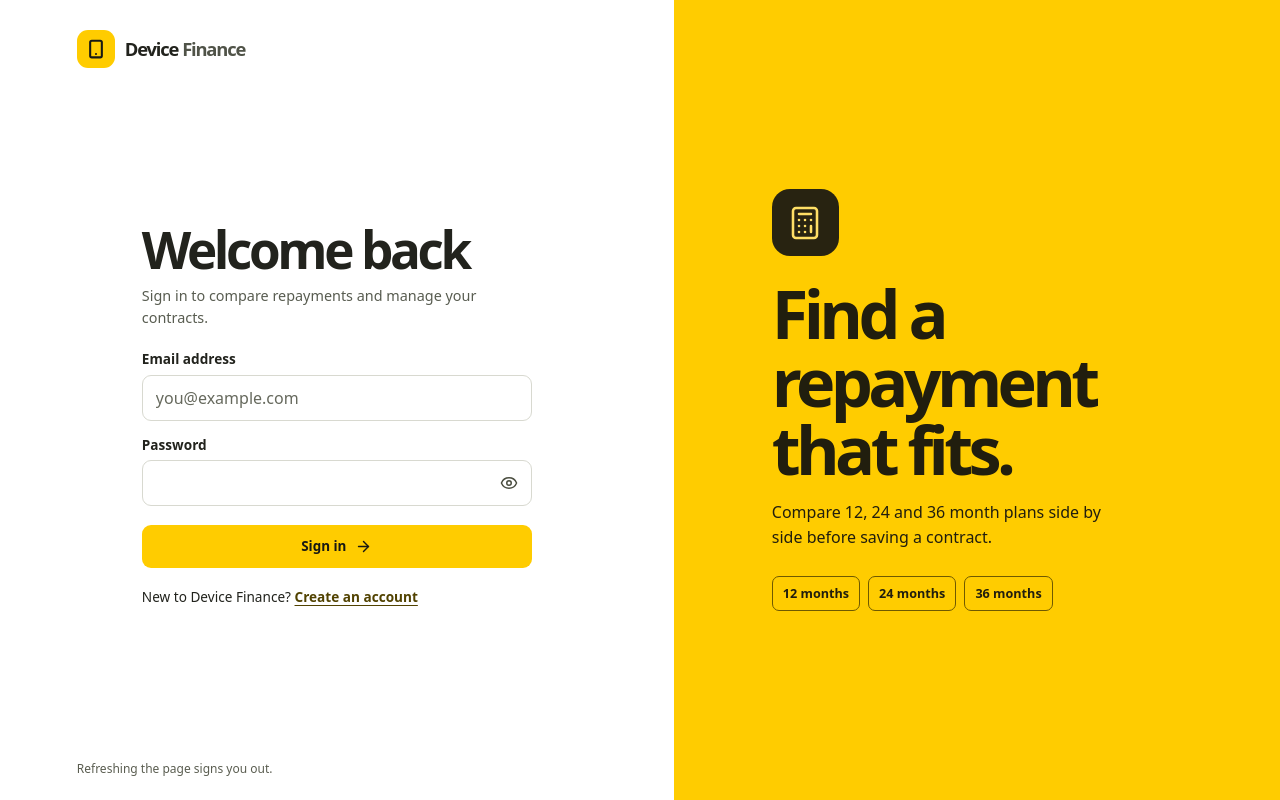
Test: account access › returns to login on a protected 401 without leaking saved data
In the field labelled "Email address": (337, 398) [142, 375, 532, 421], type "fixture@example.test"
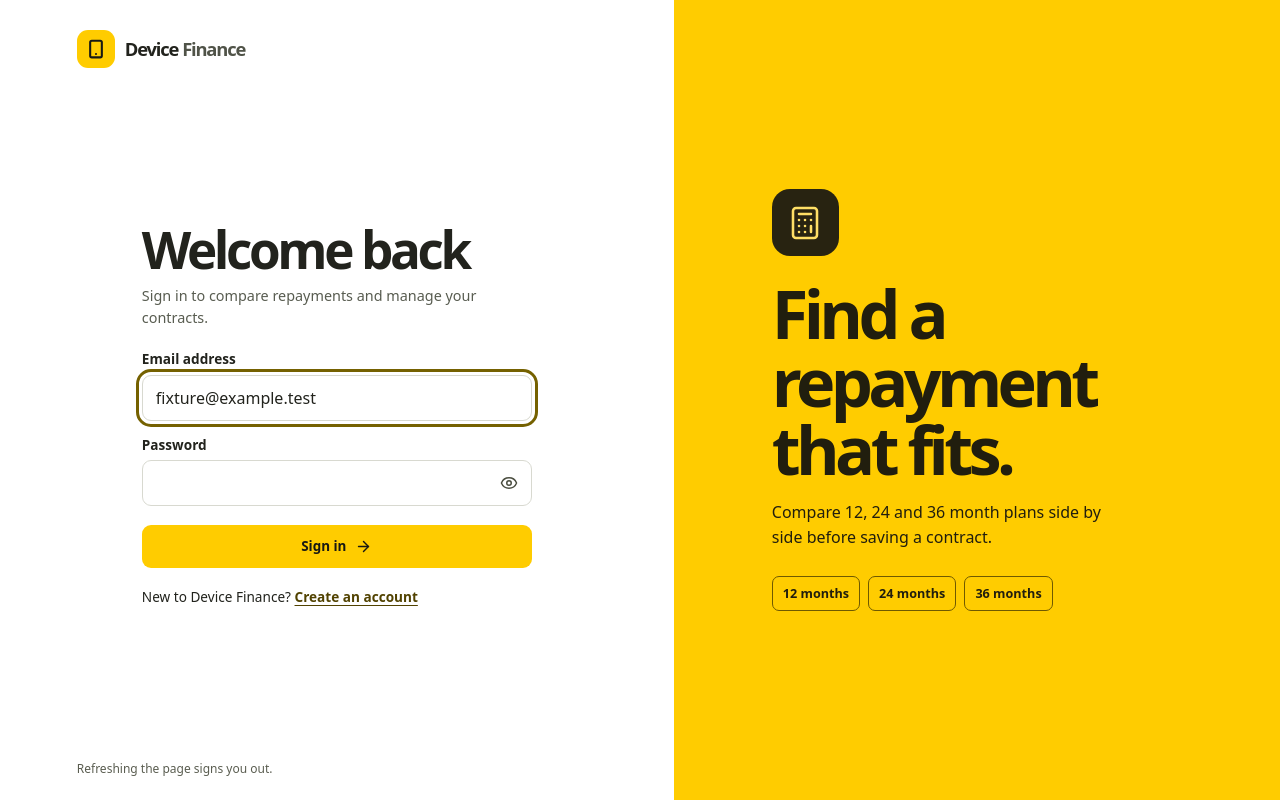
In the password field labelled "Password": (337, 483) [142, 460, 532, 506], type "Sufficient fixture password"
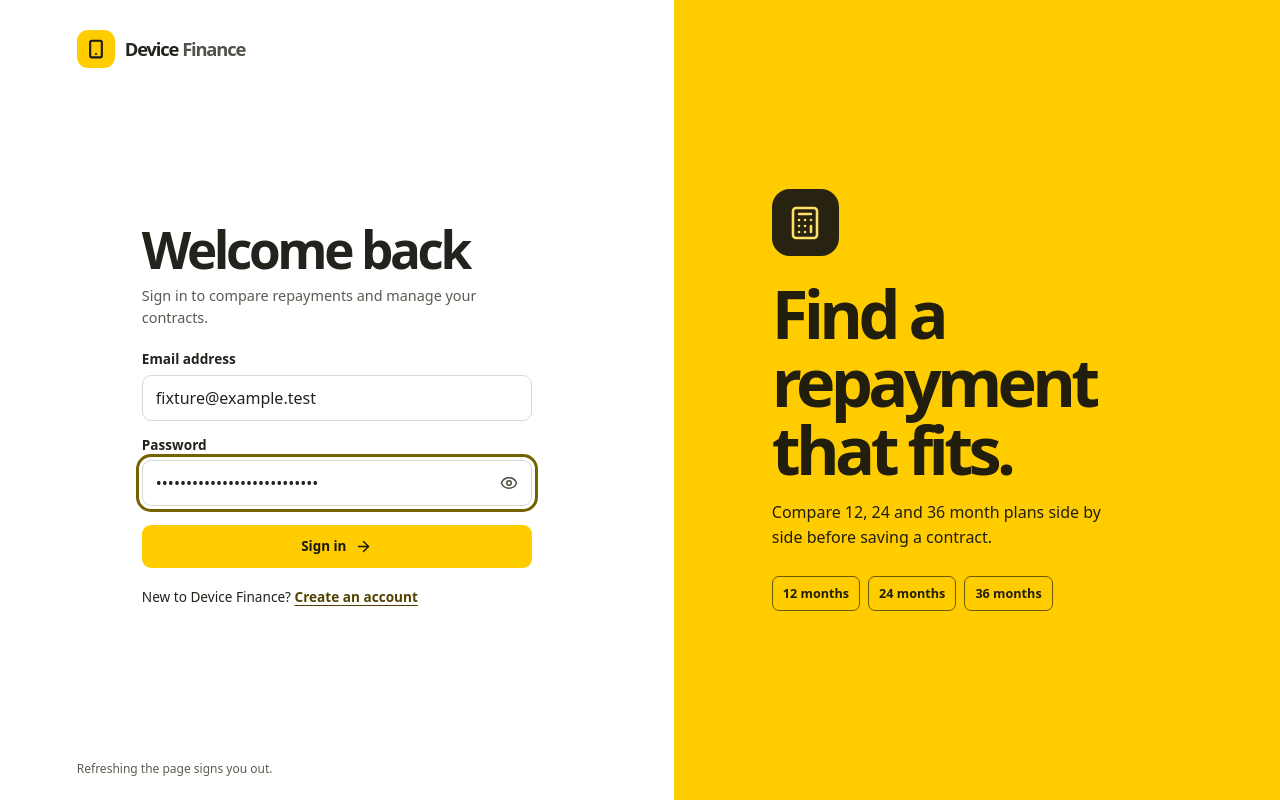
Click the button "Sign in": (337, 546) [142, 525, 532, 568]
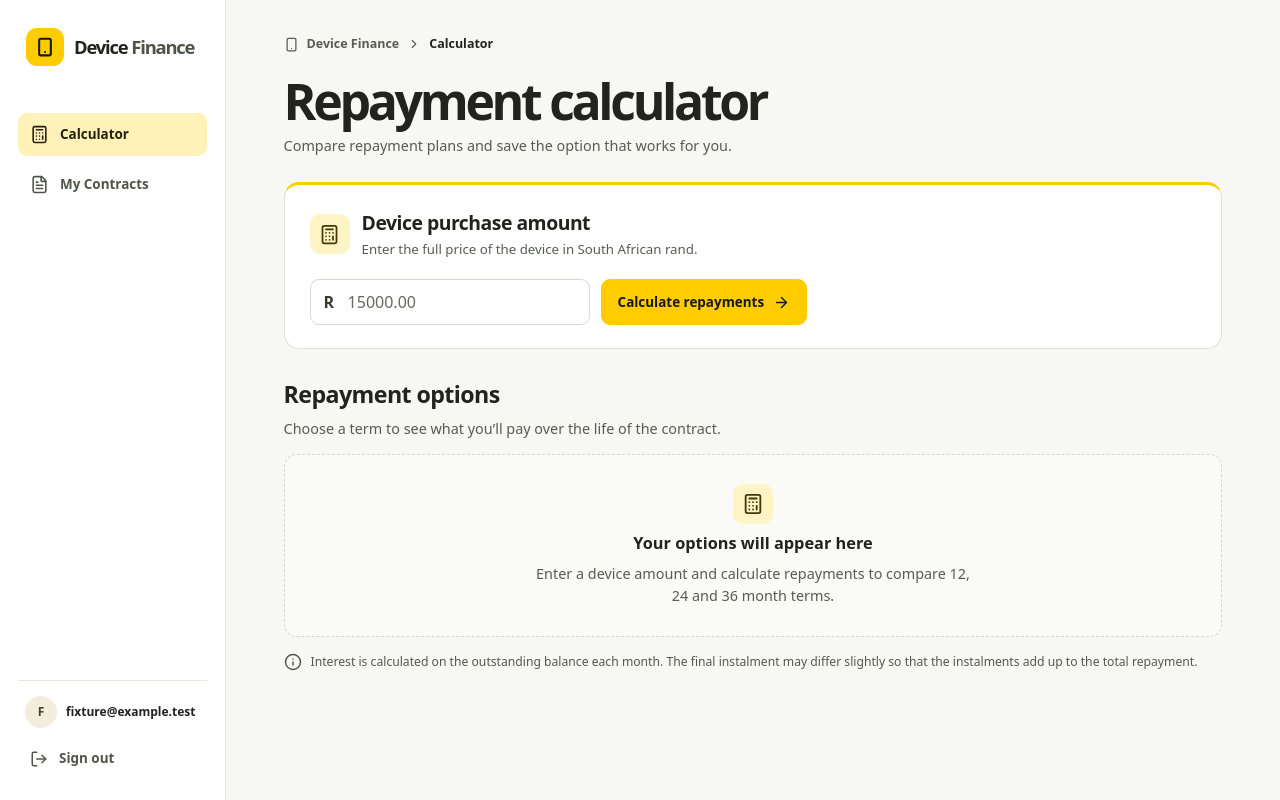
Result: the heading "Repayment calculator" is shown at [284, 67, 766, 135]
Click the link "My Contracts": (89, 184) [30, 175, 149, 194]
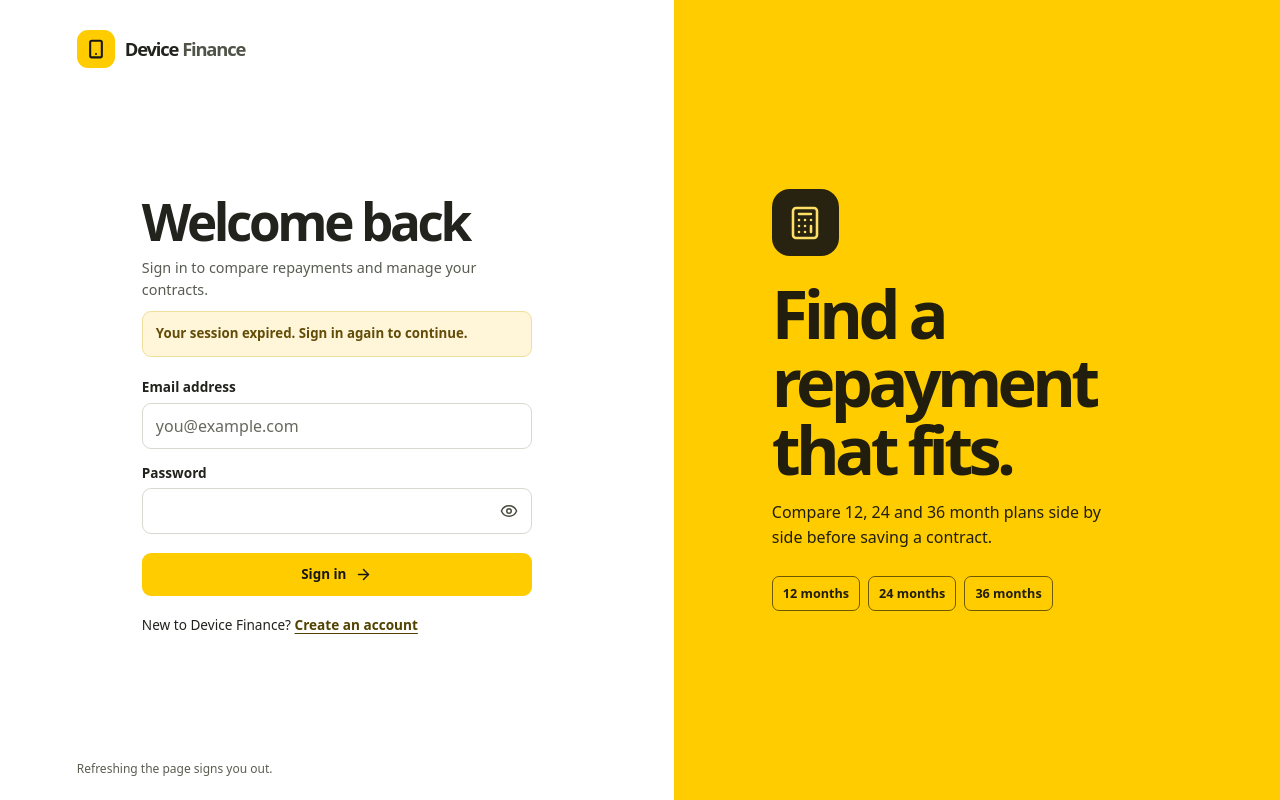
Result: the text "Your session expired. Sign in again to continue." is shown at [142, 311, 532, 357]
Result: the link "My Contracts" is gone
